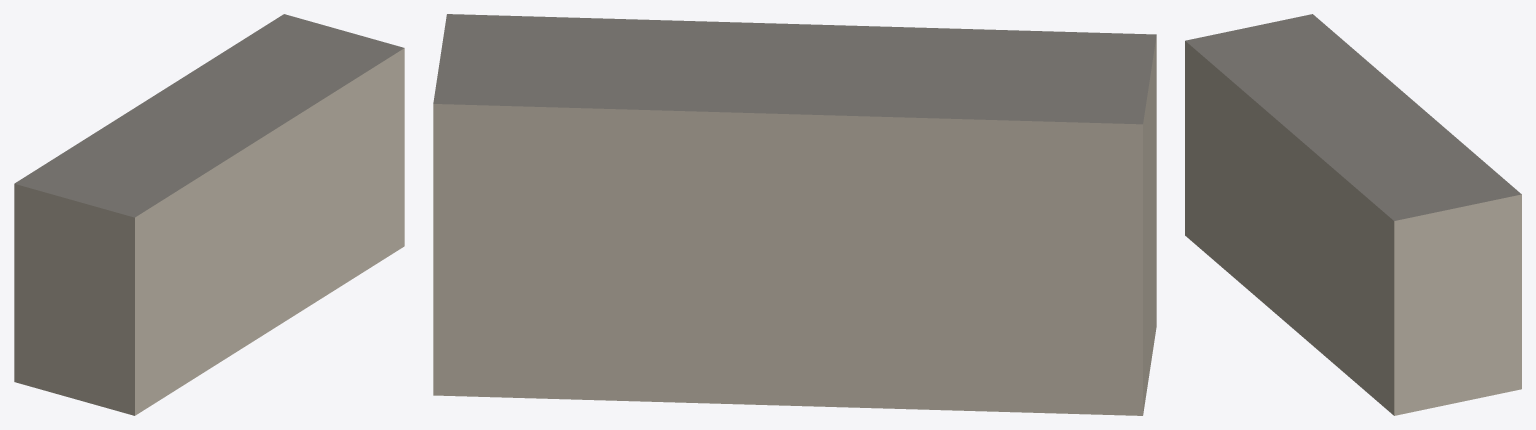
3 renders of one model, left to right at view 1: azimuth 30°, elevation 25°; view 2: azimuth 150°, elevation 25°; view 3: azimuth 270°, elevation 25°, orthographic. The views are drawn at different scales.
Visible parts, largest first — view 1: HP-w369237884; view 2: HP-w369237884; view 3: HP-w369237884.
Boxes of the visible parts, left/top/right/bottom form: HP-w369237884: left=14, top=14, right=404, bottom=415; HP-w369237884: left=433, top=14, right=1156, bottom=415; HP-w369237884: left=1185, top=14, right=1521, bottom=415.
Size of the model in its own units: 41.03 by 18 by 28.2.
